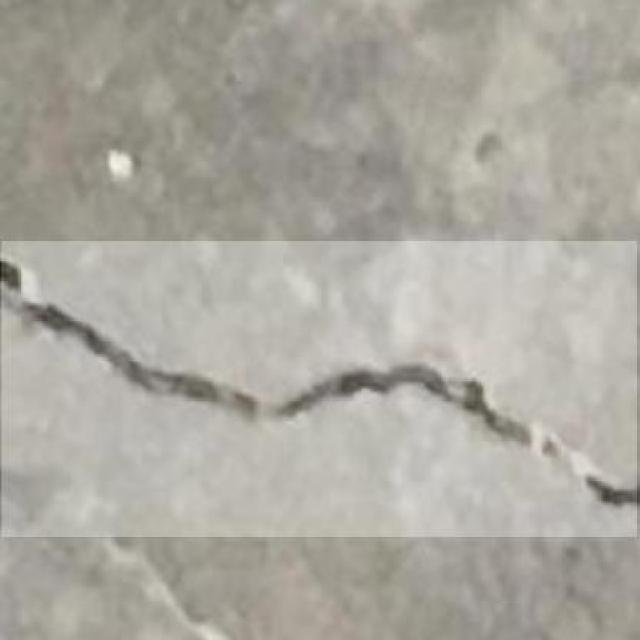Crack: (0, 252, 640, 510)
